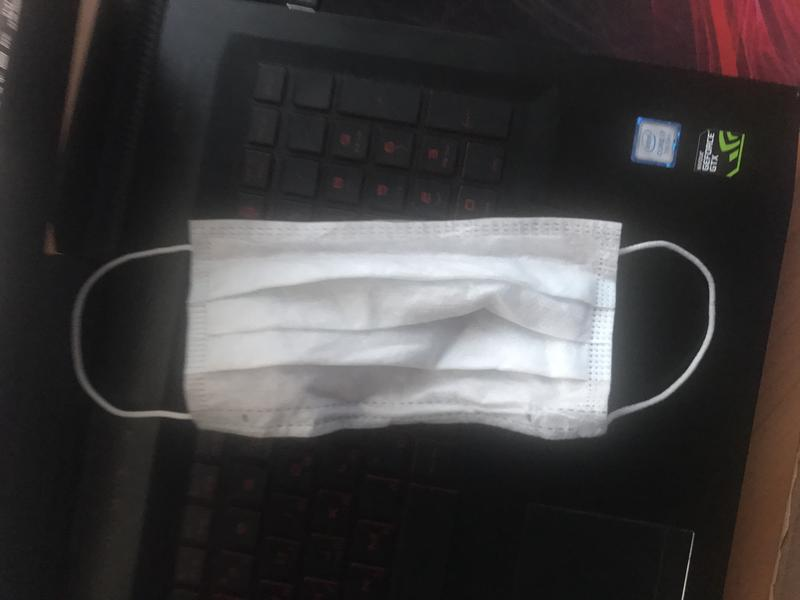medical_mask: (71, 216, 715, 440)
